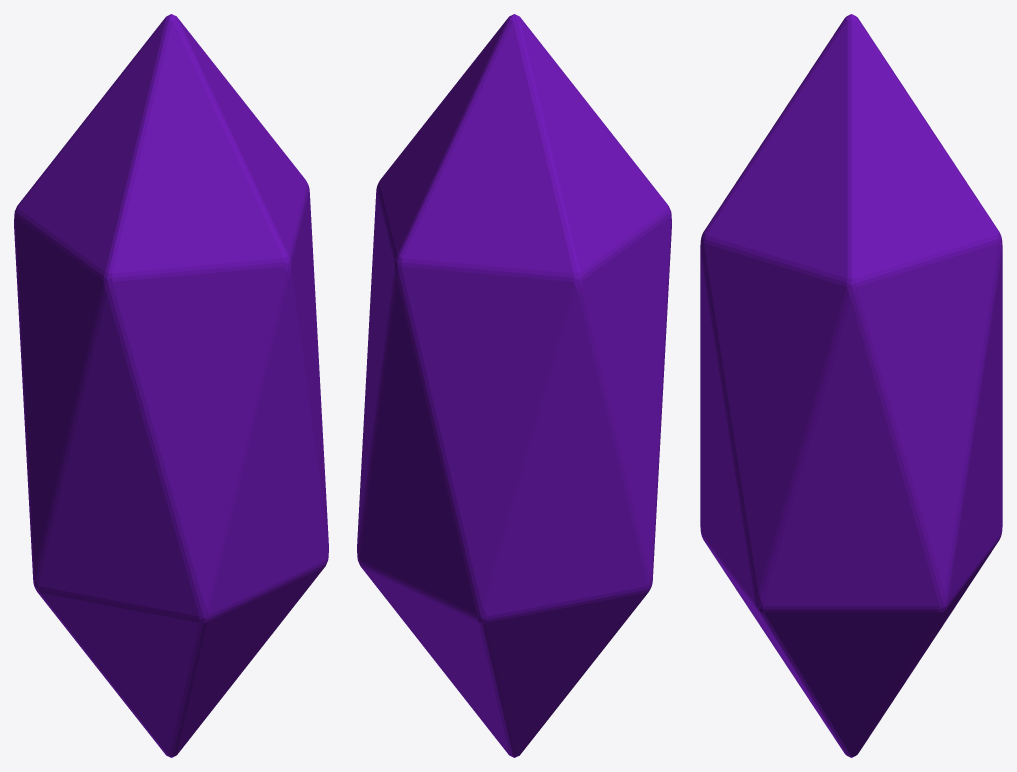
Rendered from gem.glb.
3 renders of one model, left to right at view 1: azimuth 30°, elevation 25°; view 2: azimuth 150°, elevation 25°; view 3: azimuth 270°, elevation 25°, orthographic.
Parts seen in each view (by area): view 1: gem; view 2: gem; view 3: gem.
Boxes of the visible parts, x1,y1,x2,y2 form: gem: (14,14,328,757); gem: (357,14,671,757); gem: (700,14,1002,757).
Bounding box in the file's own units: 0.1604 × 0.4158 × 0.1531.
